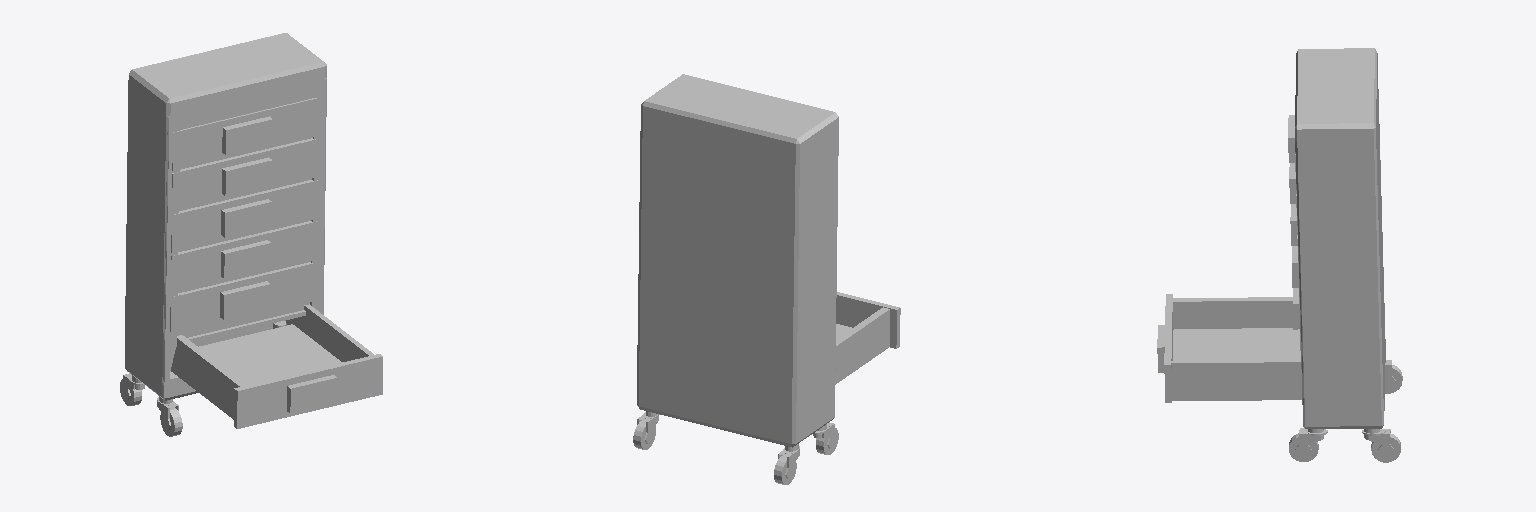
The model's file is toolchest 1.obj.
3 renders of one model, left to right at view 1: azimuth 30°, elevation 25°; view 2: azimuth 150°, elevation 25°; view 3: azimuth 270°, elevation 25°, orthographic.
Parts seen in each view (by area): view 1: Box280, Box289, Box288, Box286, Box282, Box285, Box287, Box281, Box283; view 2: Box280, Box289, Box288; view 3: Box280, Box289, Box288.
Boxes of the visible parts, x1,y1,x2,y2 form: Box280: [125, 33, 326, 400]; Box289: [171, 304, 373, 419]; Box288: [234, 354, 382, 428]; Box286: [171, 180, 317, 252]; Box282: [170, 262, 316, 335]; Box285: [171, 221, 316, 293]; Box287: [172, 138, 317, 211]; Box281: [172, 98, 318, 170]; Box283: [177, 138, 311, 337]; Box280: [637, 74, 838, 447]; Box289: [835, 307, 889, 384]; Box288: [836, 292, 900, 348]; Box280: [1295, 48, 1385, 428]; Box289: [1171, 297, 1301, 400]; Box288: [1157, 294, 1173, 402].
Bounding box in the file's own units: 48.02 × 97.31 × 63.48.